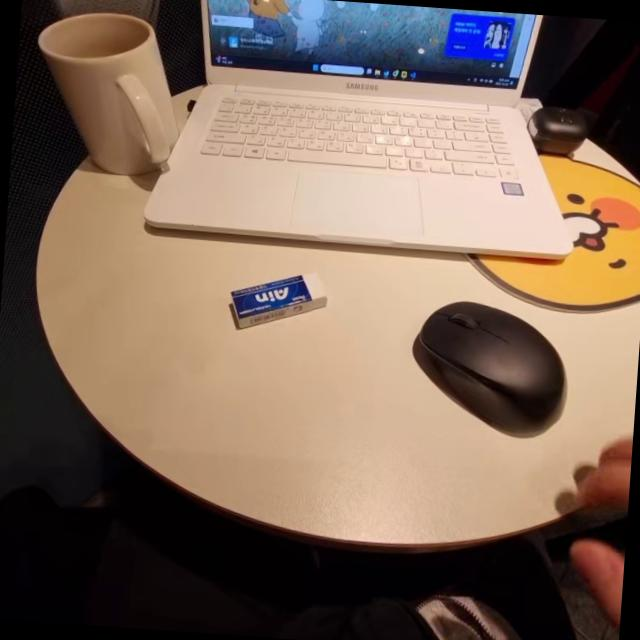eraser: (224, 260, 336, 341)
mouse: (387, 294, 588, 438)
